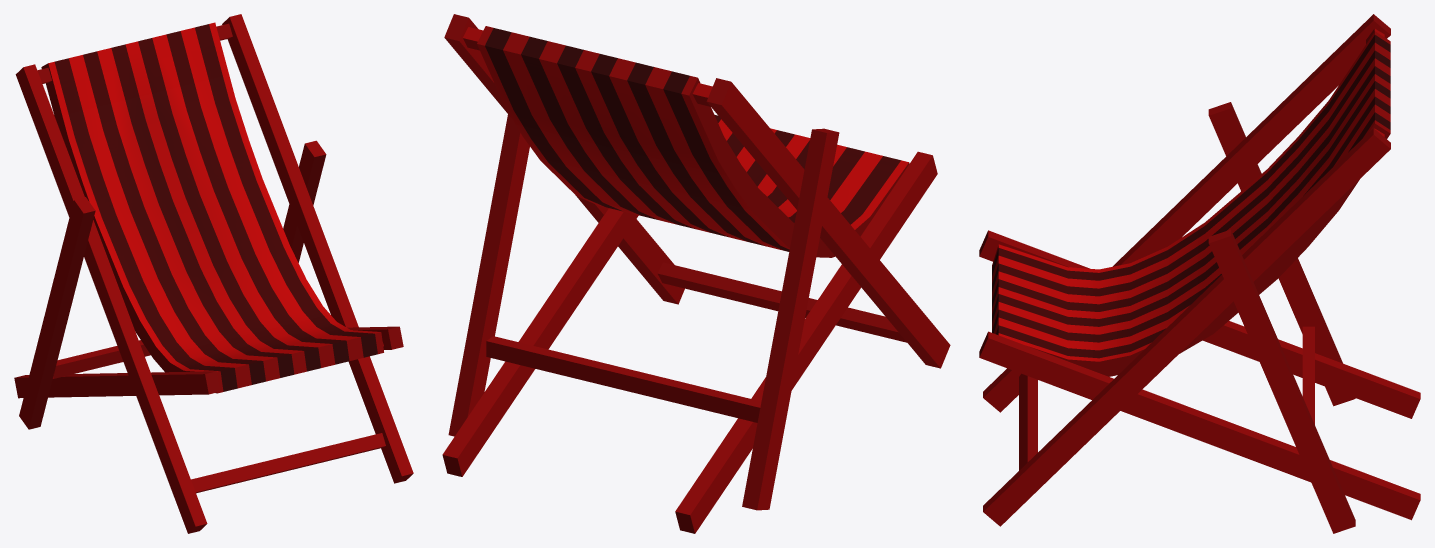
The model's file is DeckChair.glb.
3 renders of one model, left to right at view 1: azimuth 30°, elevation 25°; view 2: azimuth 150°, elevation 25°; view 3: azimuth 270°, elevation 25°, orthographic. The views are drawn at different scales.
Visible parts, largest first — view 1: DeckChair; view 2: DeckChair; view 3: DeckChair.
Part boxes in pixels (box(x1,y1,x2,y2)): DeckChair: box(14, 14, 413, 533); DeckChair: box(442, 14, 950, 533); DeckChair: box(979, 14, 1420, 533).
Bounding box in the file's own units: 7.13 × 9.73 × 9.91.
